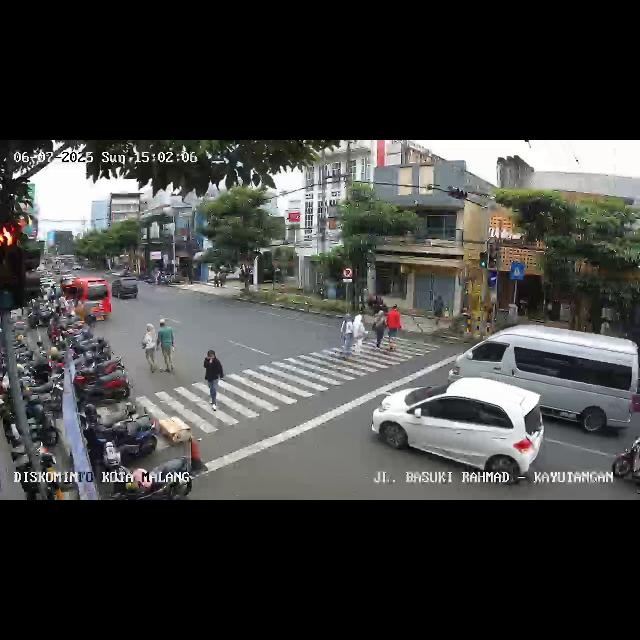car: (448, 322, 640, 438), (372, 379, 544, 491), (58, 276, 112, 326), (110, 277, 140, 301)
motorcycle: (608, 424, 640, 496)
person: (202, 348, 224, 410), (157, 319, 176, 373), (141, 323, 159, 377), (388, 304, 404, 354), (352, 314, 370, 358), (338, 312, 352, 364), (372, 309, 388, 351), (431, 294, 443, 334)
